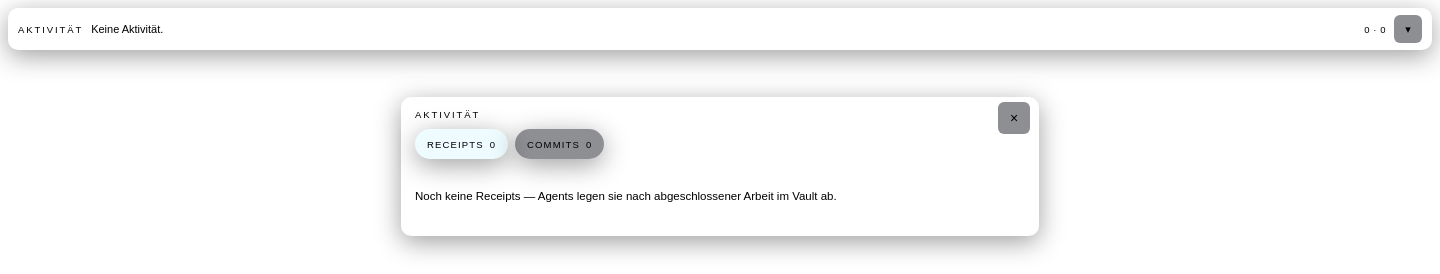
Test case: AktivitaetPanel (Receipts + Commits, echte Daten über die Bestands-Hooks) › Empty-States je Tab (kein falscher Leer-Zustand beim Laden)
Check: the text "Noch keine Receipts — Agents legen sie nach abgeschlossener Arbeit im Vault ab." is shown, box x1=415 y1=190 x2=837 y2=202
Click the tab "COMMITS 0" at (560,144), box x1=515 y1=129 x2=604 y2=159
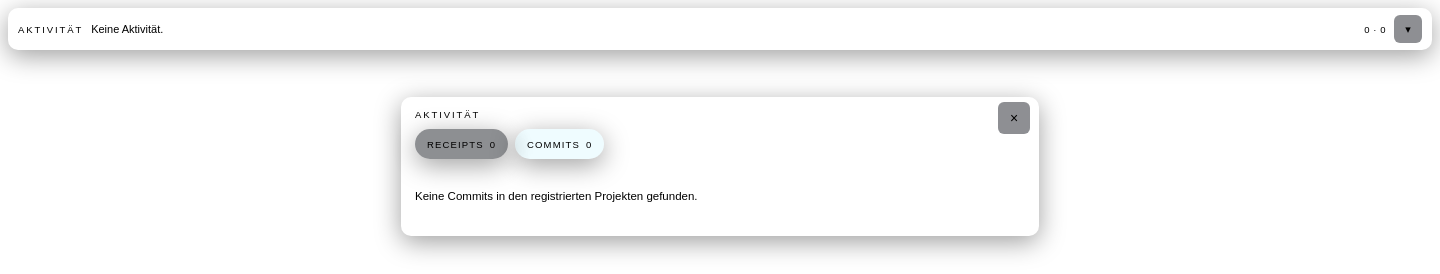
Check: the text "Keine Commits in den registrierten Projekten gefunden." is shown, box x1=415 y1=190 x2=698 y2=202
